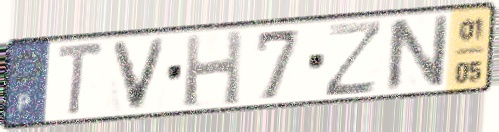7: (253, 29, 303, 102)
H: (181, 27, 245, 110)
N: (384, 12, 452, 95)
T: (54, 39, 107, 120)
V: (108, 35, 171, 114)
Z: (321, 17, 387, 100)
